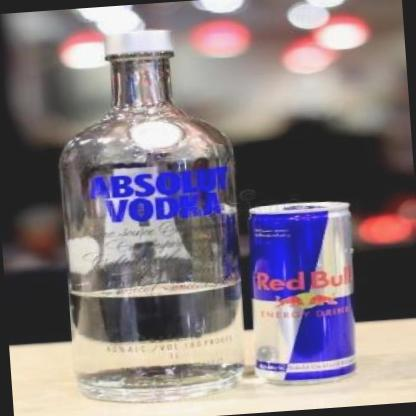alumunium_can: (242, 196, 364, 389)
objects: (47, 26, 254, 408)
